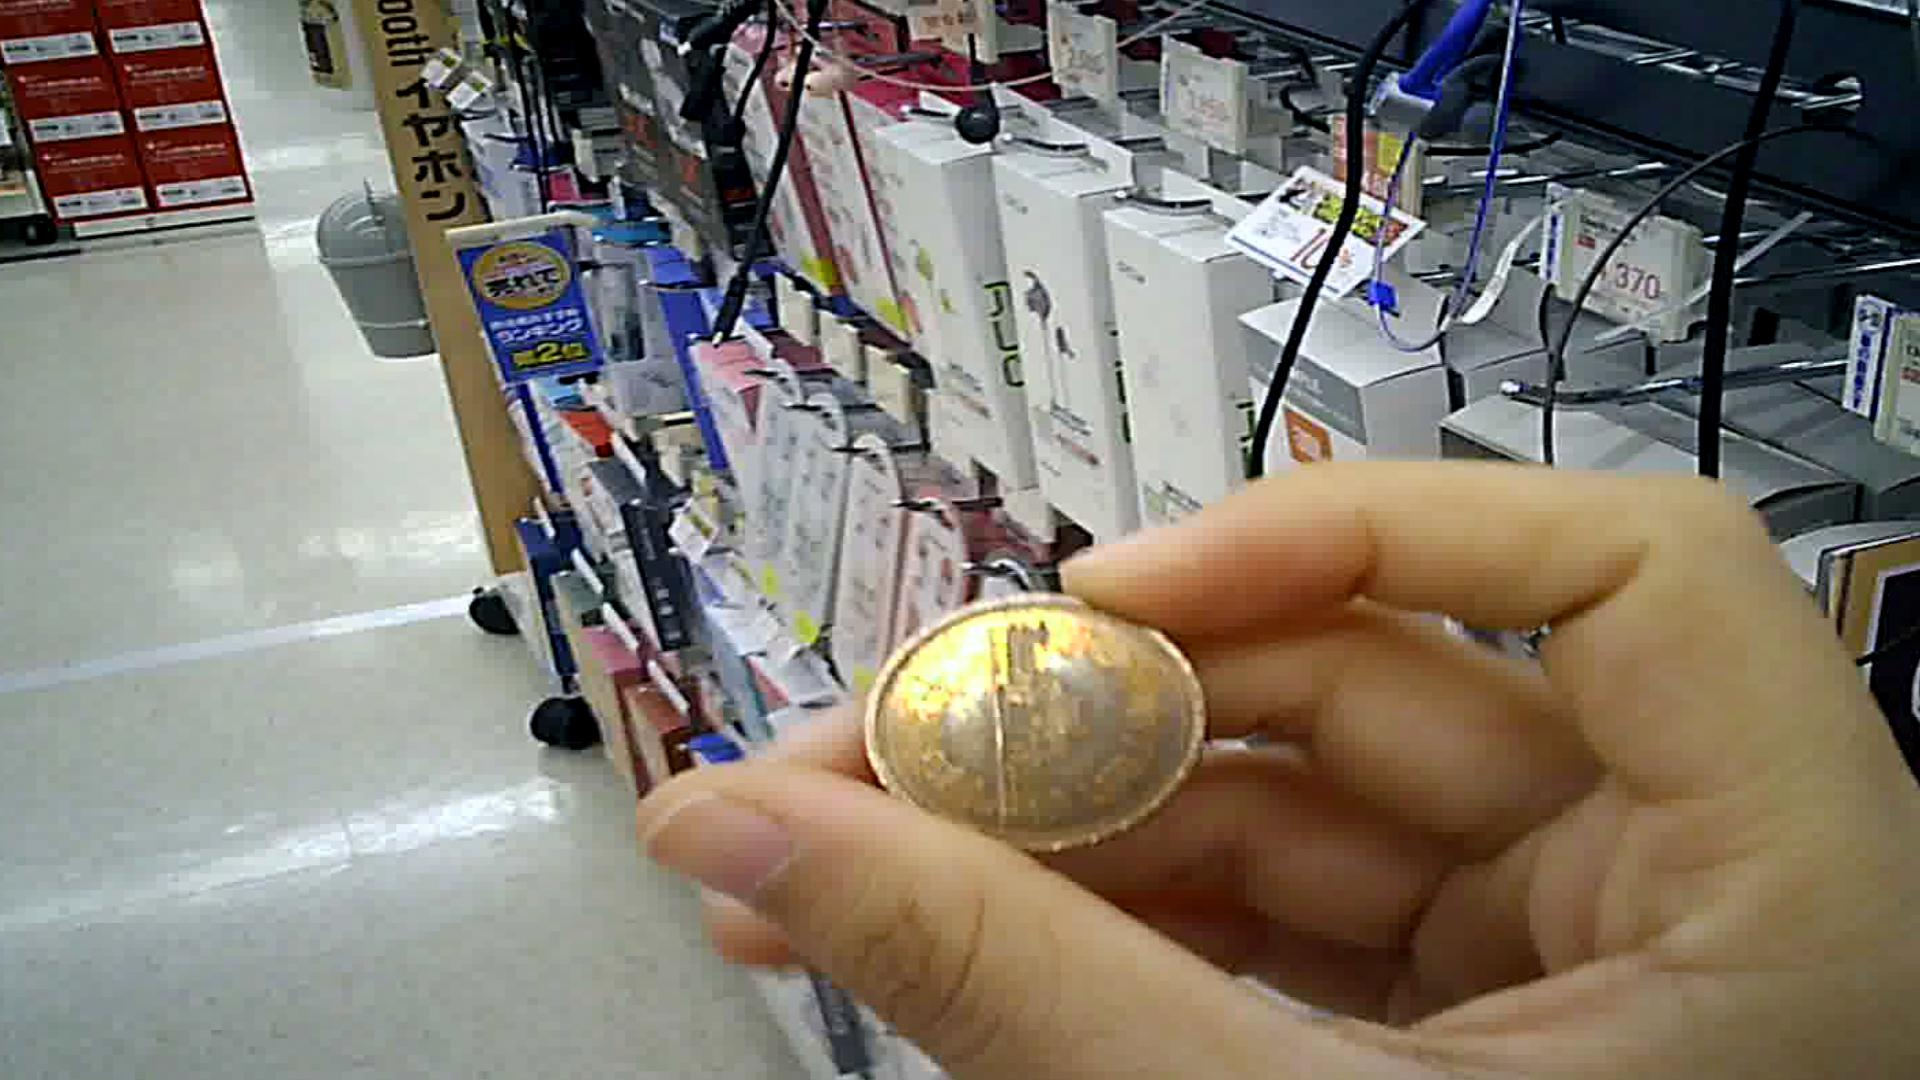10 Yen: (868, 583, 1200, 864)
